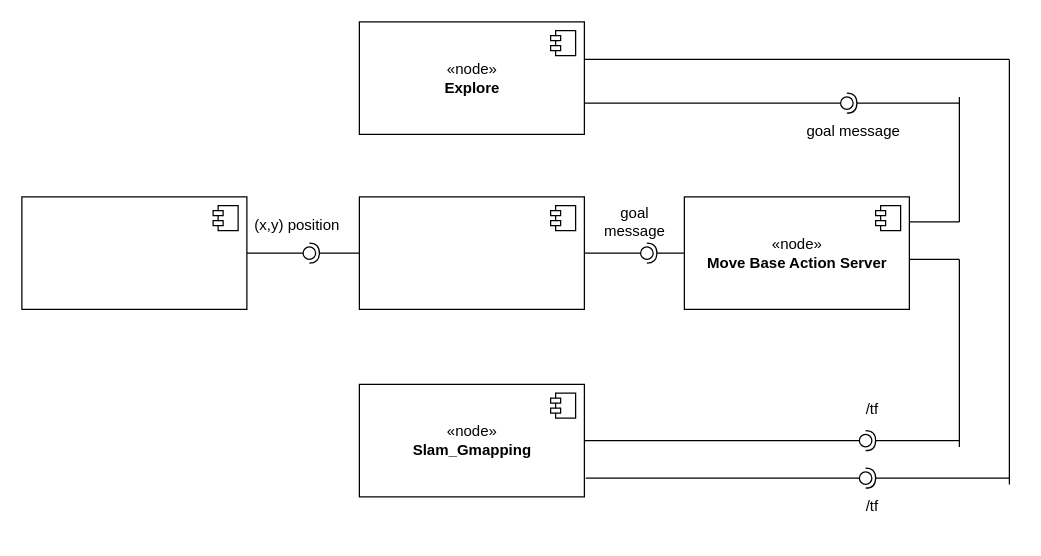
Some shapes in this 1041 by 556 pixel diagram are drawn without their labels. The centre of each missing label's shape, as x and y in pixels:
«node» Move Base Action Client: the point at 471,252
«node» State Machine: the point at 134,252
